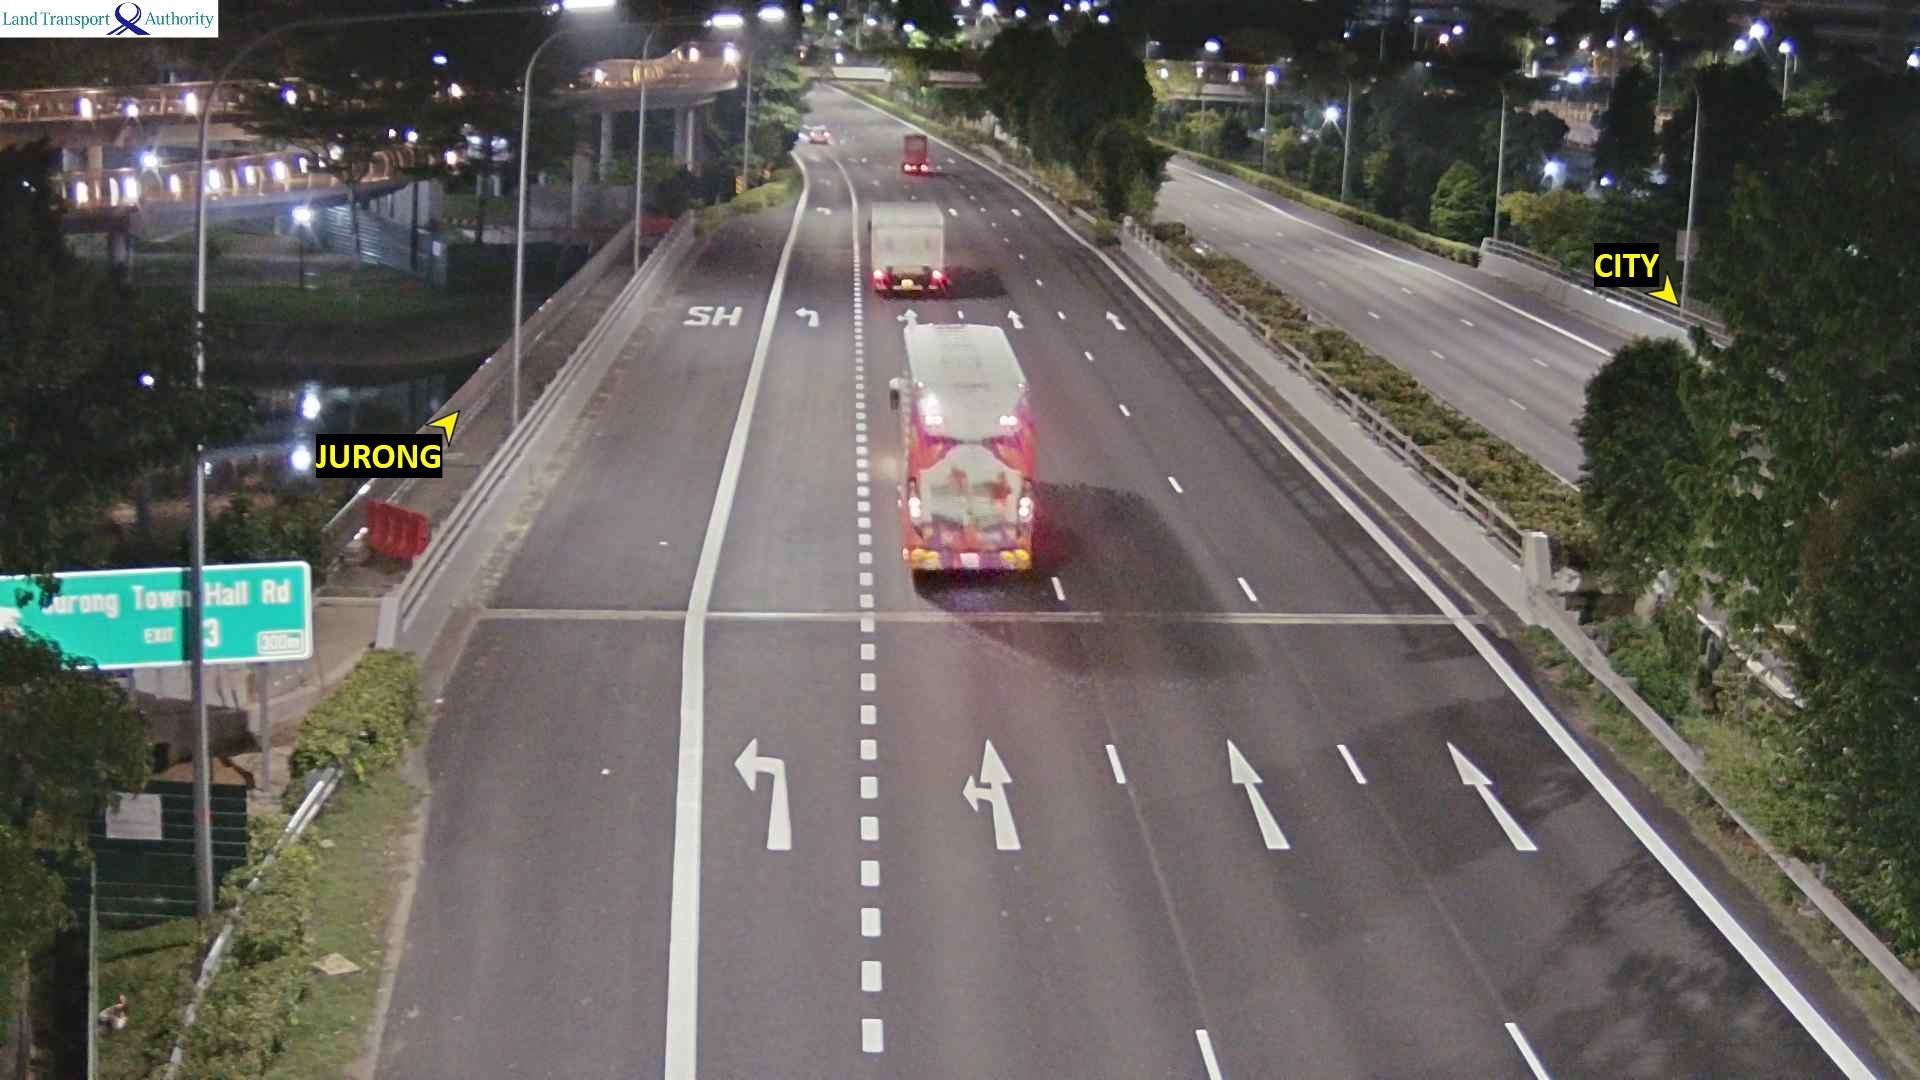cars: (808, 123, 834, 146)
trucks: (887, 317, 1038, 576), (868, 198, 952, 300), (900, 133, 929, 173)
